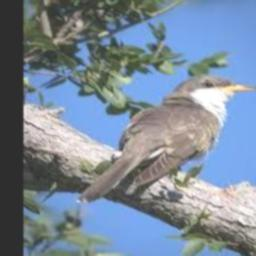Cuckoo: (77, 76, 256, 204)
